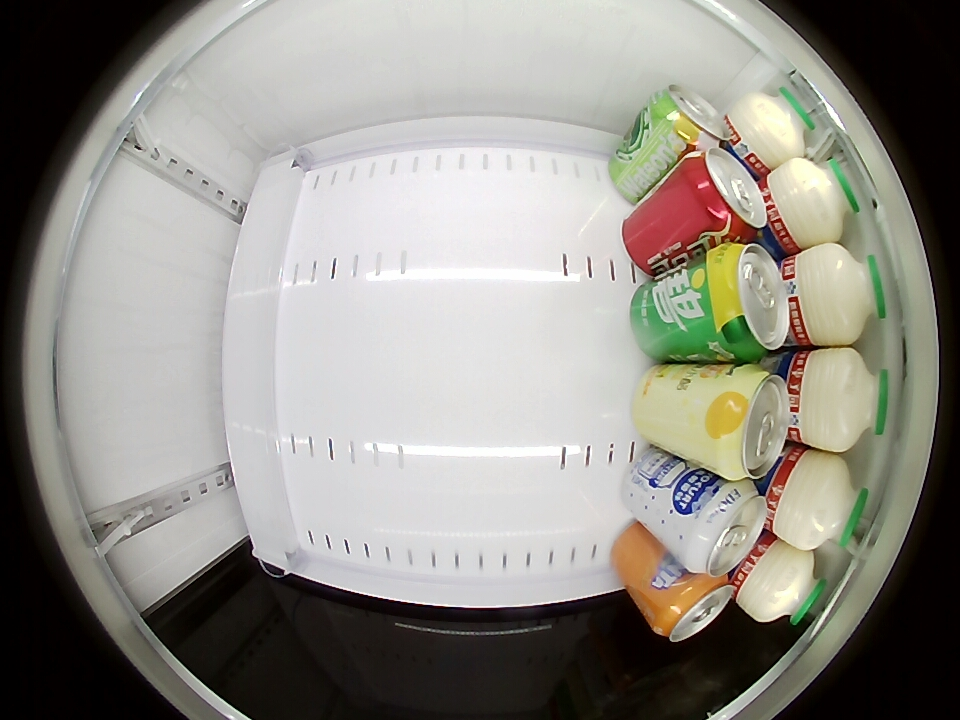fenda: (653, 573, 735, 643)
kele: (683, 147, 768, 244)
liziyuan: (788, 347, 889, 452), (785, 243, 885, 347), (774, 453, 869, 551), (765, 156, 861, 250), (736, 541, 827, 626), (728, 90, 813, 168)
mangguoxiaolao: (707, 365, 790, 480)
quchenshixiangcao: (652, 86, 730, 150)
rusuanjunqishui: (685, 478, 769, 577)
xuebi2: (699, 242, 789, 361)
